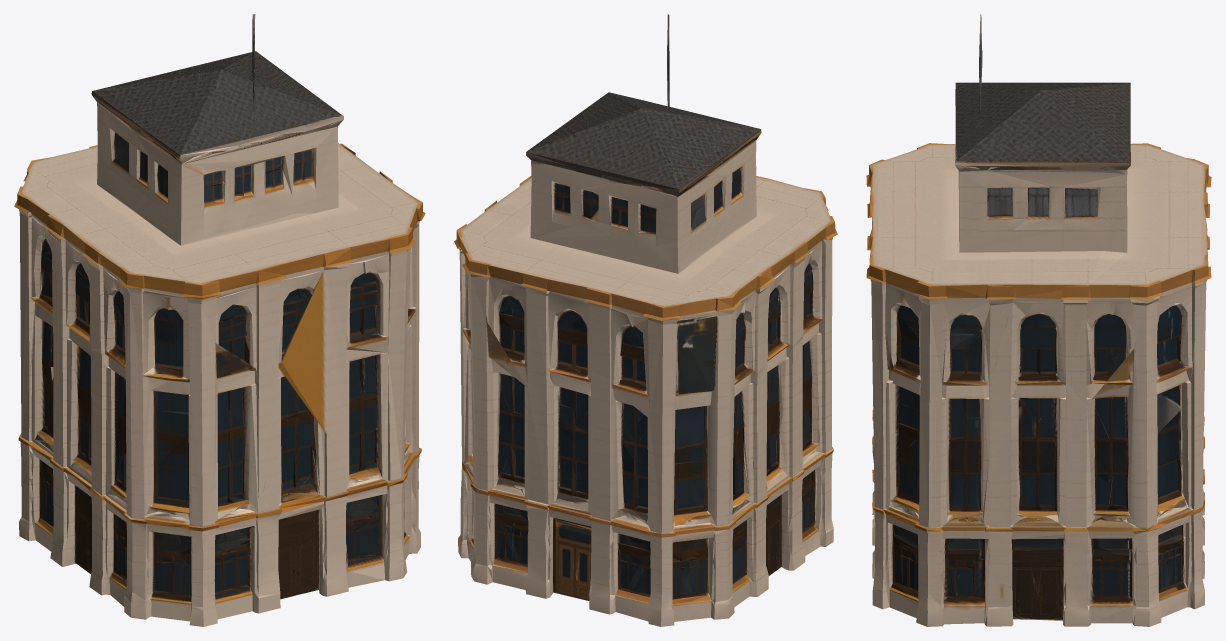
Rendered from tower.glb.
The picture shows the model from 3 angles, left to right: view 1: azimuth 30°, elevation 25°; view 2: azimuth 150°, elevation 25°; view 3: azimuth 270°, elevation 25°; orthographic projection. The views are drawn at different scales.
Bounding box in the file's own units: 1.09 × 1.9 × 1.09.
Materials: 1 (1 with a texture image).
